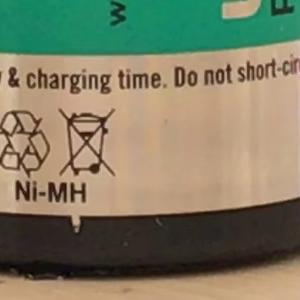NI-MH: (5, 172, 96, 212)
